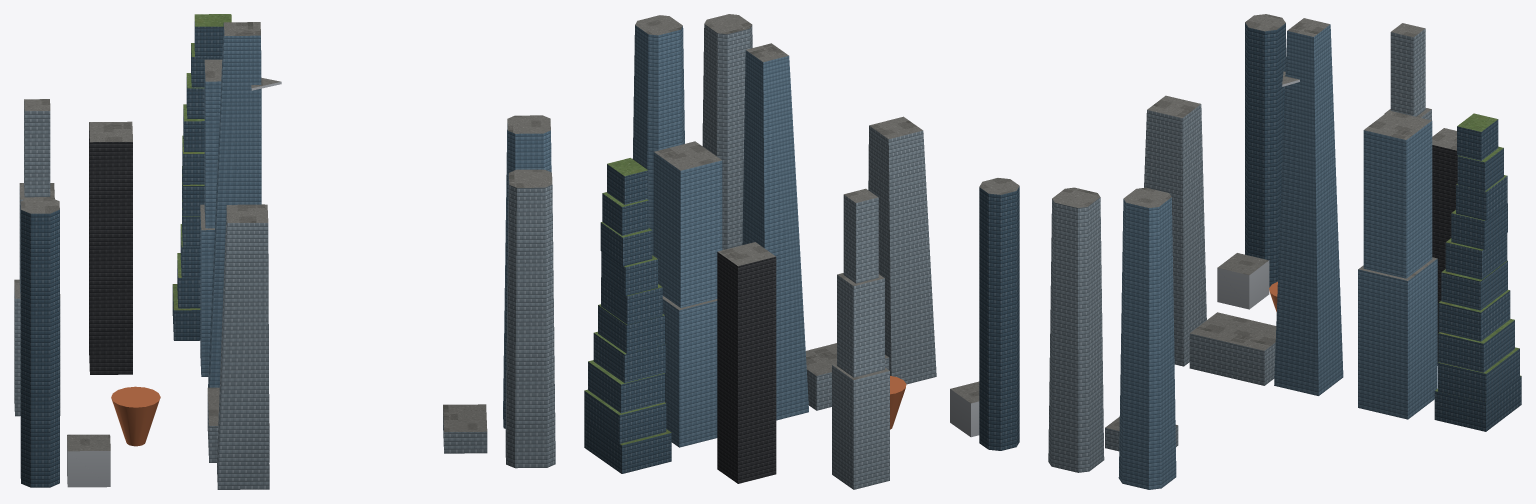
3 views of the same model, side by side, from view 1: azimuth 30°, elevation 25°; view 2: azimuth 150°, elevation 25°; view 3: azimuth 270°, elevation 25° (orthographic). The views are drawn at different scales.
Parts seen in each view (by area): view 1: hy; view 2: hy; view 3: hy.
Boxes of the visible parts, left/top/right/bottom form: hy: left=14, top=14, right=555, bottom=489; hy: left=584, top=14, right=1019, bottom=489; hy: left=1048, top=14, right=1521, bottom=489.
Size of the model in its own units: 504 by 387 by 464.
Materials: 51 (50 with a texture image).
